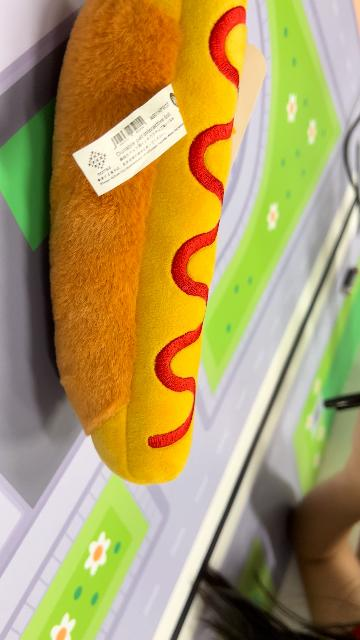hotdog: (46, 1, 250, 486)
